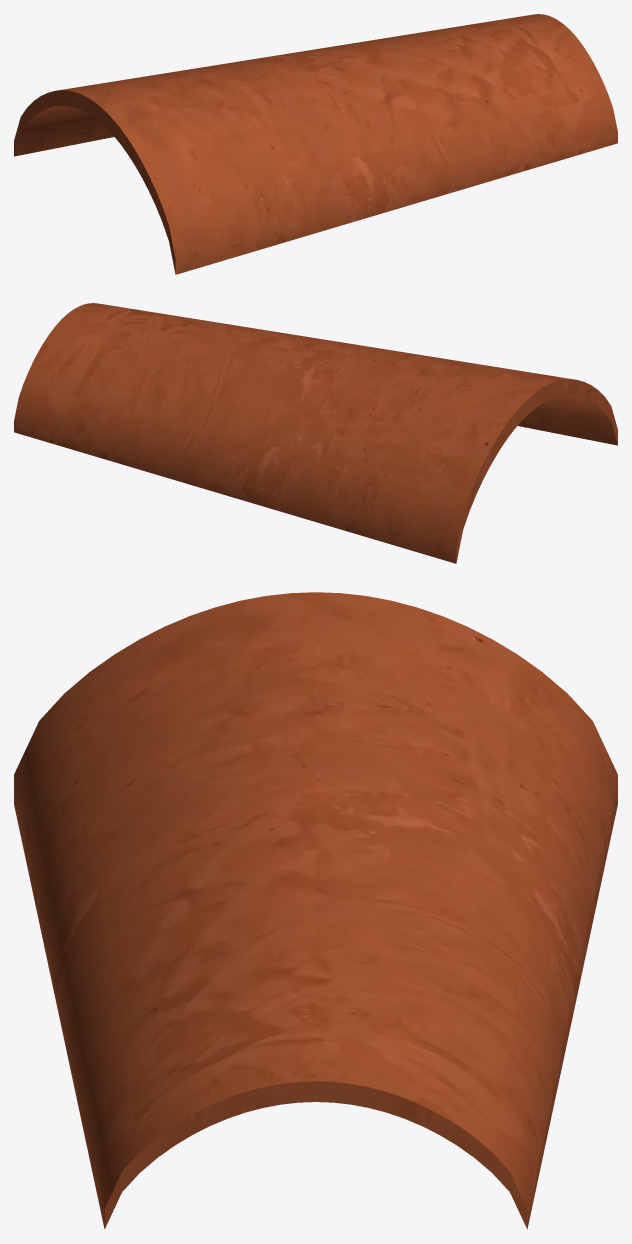
File: COB-CUM-004.glb
3 renders of one model, top to bottom at view 1: azimuth 30°, elevation 25°; view 2: azimuth 150°, elevation 25°; view 3: azimuth 270°, elevation 25°, orthographic. The views are drawn at different scales.
Parts seen in each view (by area): view 1: COB-CUM-004_peca; view 2: COB-CUM-004_peca; view 3: COB-CUM-004_peca.
Part boxes in pixels (x1,y1,x2,y2): COB-CUM-004_peca: (14, 14, 617, 274); COB-CUM-004_peca: (14, 303, 617, 563); COB-CUM-004_peca: (14, 592, 617, 1229).
Size of the model in its own units: 0.4 by 0.093 by 0.24.
1 material, 1 textured.
